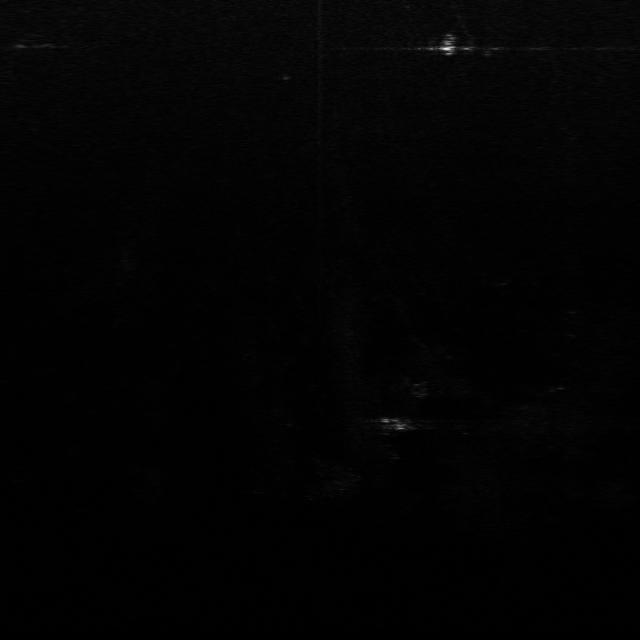rov: (433, 32, 463, 55)
